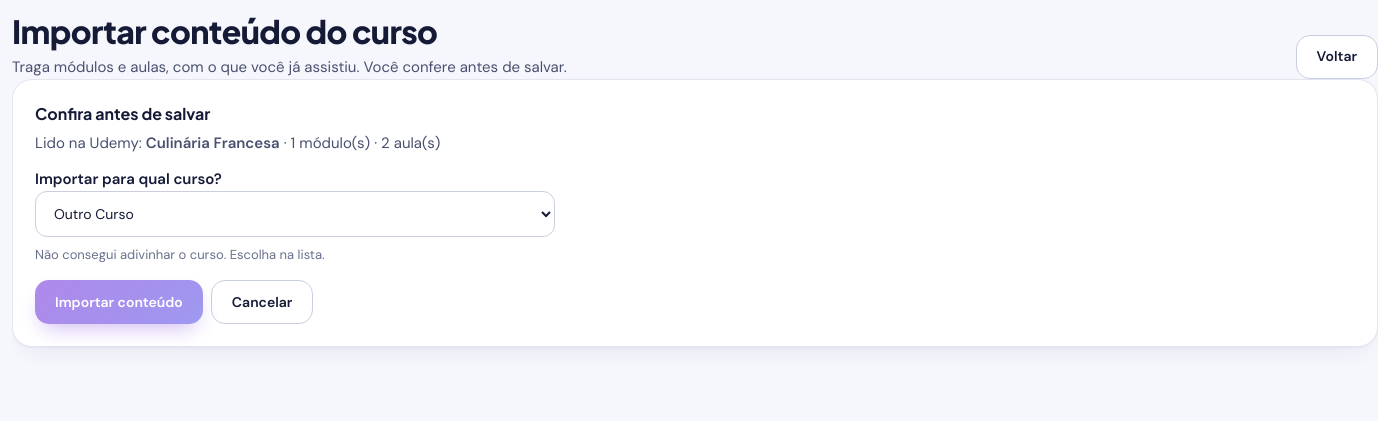
Test: página Importar conteúdo › sem curso adivinhado, pede para escolher e só libera o botão depois
expect the button "Importar conteúdo" is disabled: met, box [35, 280, 203, 324]
Select "Outro Curso" in the dropdown with id "dest" at x=295, y=214, box [35, 191, 555, 237]
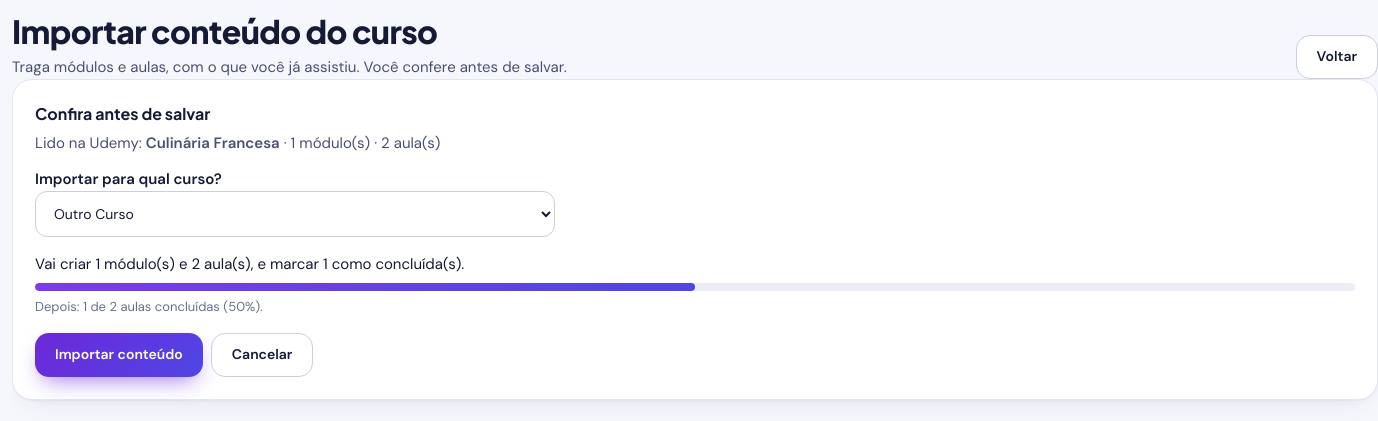
expect the button "Importar conteúdo" is enabled: met, box [35, 333, 203, 377]
